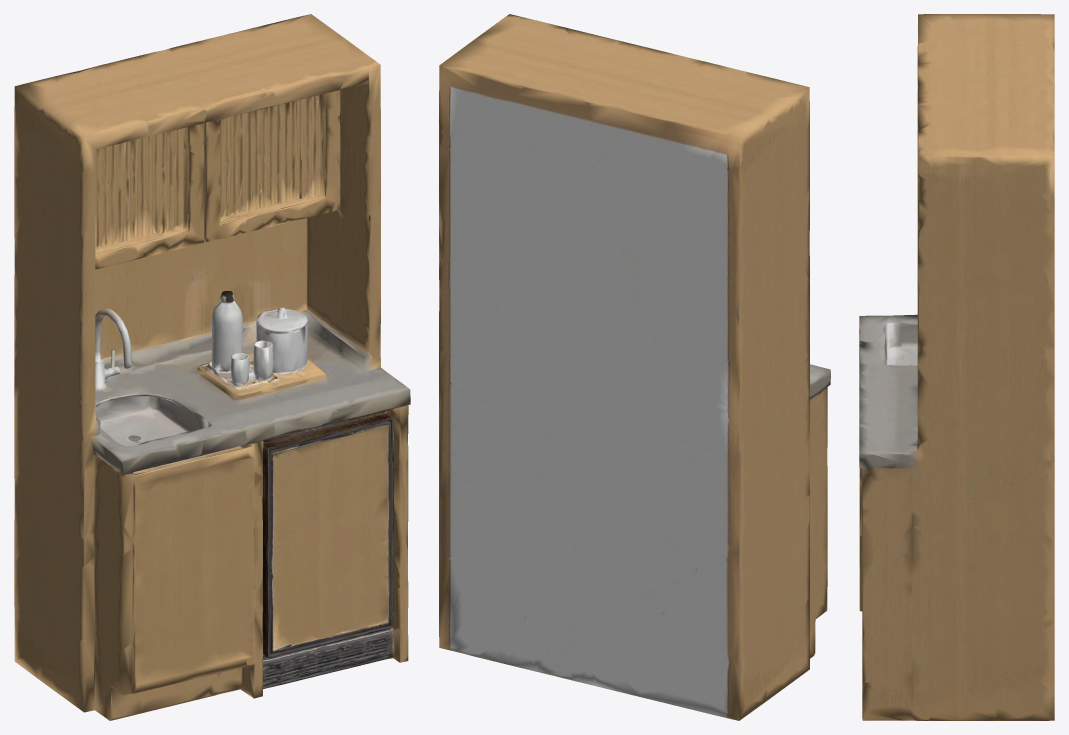
The model's file is Hotel Minibar Wet Bar.glb.
The picture shows the model from 3 angles, left to right: view 1: azimuth 30°, elevation 25°; view 2: azimuth 150°, elevation 25°; view 3: azimuth 270°, elevation 25°; orthographic projection. The views are drawn at different scales.
Parts seen in each view (by area): view 1: Mesh_0.001; view 2: Mesh_0.001; view 3: Mesh_0.001.
Boxes of the visible parts, <box> form: Mesh_0.001: <box>14,14,410,720</box>; Mesh_0.001: <box>439,14,830,720</box>; Mesh_0.001: <box>859,14,1054,720</box>.
Size of the model in its own units: 1.13 by 2.1 by 0.6584.
1 material, 1 textured.
